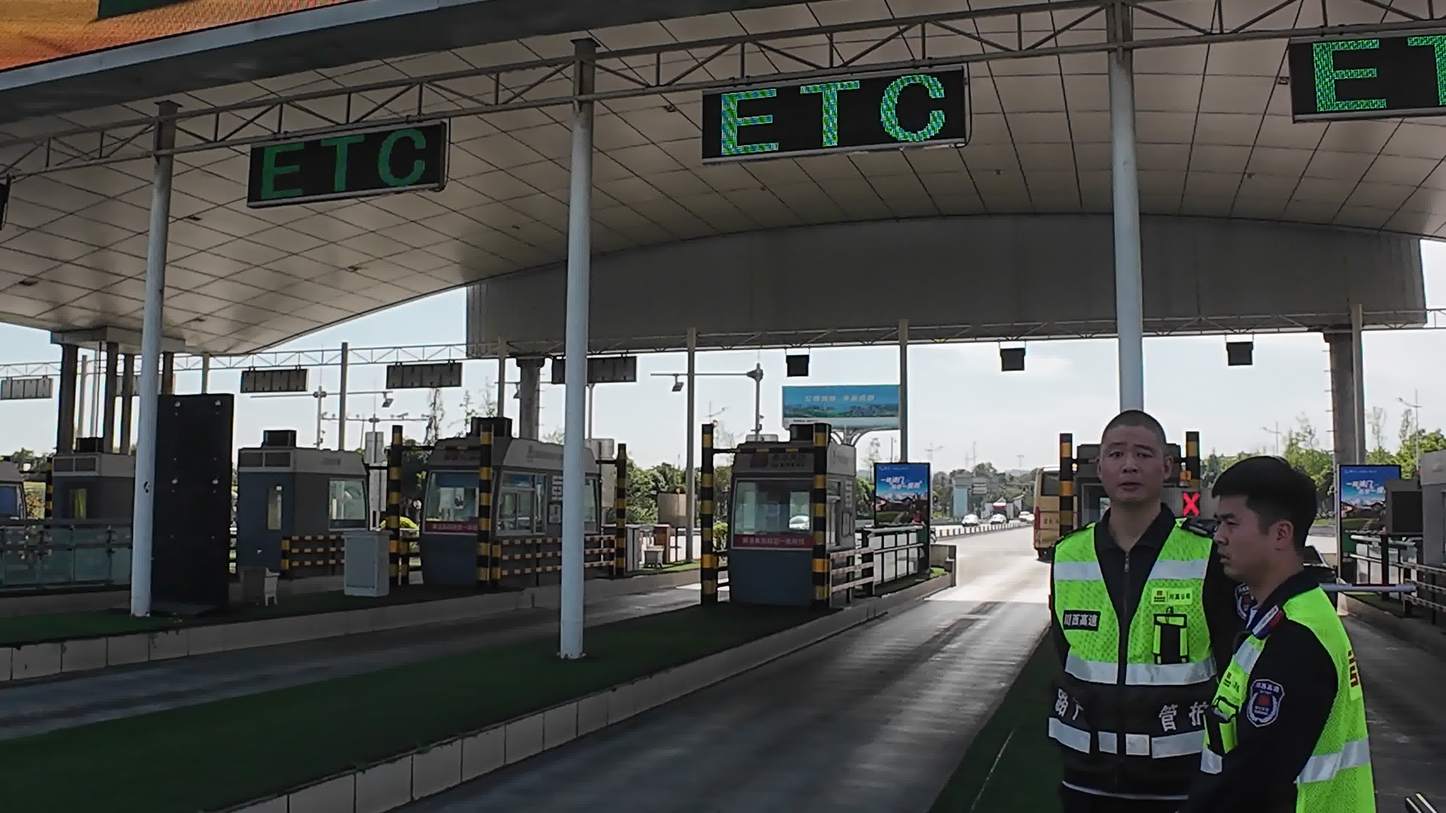led_screen: (688, 78, 989, 149), (1279, 35, 1446, 133), (243, 131, 459, 188), (868, 435, 952, 554), (1324, 461, 1398, 573), (1376, 486, 1426, 536), (385, 363, 463, 393), (235, 368, 311, 393), (0, 370, 63, 396), (776, 349, 823, 378), (593, 358, 638, 384), (1228, 344, 1256, 374), (1004, 347, 1028, 377)
roadside_plant: (1281, 438, 1341, 474)
toll_booth: (415, 426, 614, 586), (718, 426, 866, 606), (224, 435, 388, 591), (38, 446, 147, 550)
warning_sign: (1177, 485, 1204, 520)
